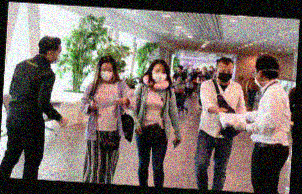with_mask: (217, 66, 234, 84), (150, 67, 166, 84), (98, 66, 114, 82), (253, 68, 262, 89), (50, 47, 61, 64), (208, 65, 213, 71), (196, 68, 200, 73)
without_mask: (201, 66, 207, 73), (175, 77, 181, 84), (175, 66, 181, 72)
